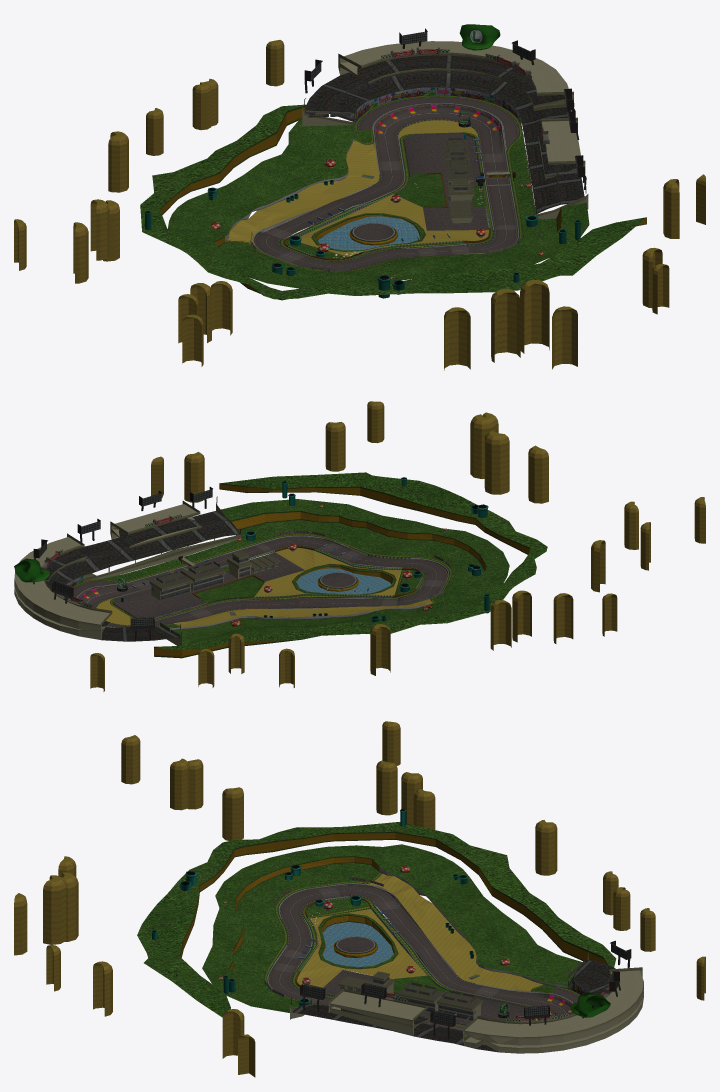
File: mk_luigi_circuit.glb
The picture shows the model from 3 angles, top to bottom: view 1: azimuth 30°, elevation 25°; view 2: azimuth 150°, elevation 25°; view 3: azimuth 270°, elevation 25°; orthographic projection. The views are drawn at different scales.
Parts seen in each view (by area): view 1: a_kusa_soto_2, yama_m_21, a_MainRoad_m_7, a_bc_kankyakuseat_m_12, tatemono_m_6, a_SAND_m_5, a_bc_enseki_m_1, block3_m_4, a_kusa_waki_m_3, popkanban_m_10, kinoko_m_14, lake_m_20 (+1 smaller); view 2: a_kusa_soto_2, yama_m_21, tatemono_m_6, a_MainRoad_m_7, a_bc_kankyakuseat_m_12, block3_m_4, a_SAND_m_5, a_bc_enseki_m_1, a_kusa_waki_m_3, kinoko_m_14, lake_m_20, lugcap_m_18 (+1 smaller); view 3: a_kusa_soto_2, yama_m_21, tatemono_m_6, a_MainRoad_m_7, block3_m_4, a_SAND_m_5, a_bc_kankyakuseat_m_12, a_bc_enseki_m_1, a_kusa_waki_m_3, lake_m_20, kinoko_m_14, lugcap_m_18.
Part boxes in pixels (<box>): a_kusa_soto_2: <box>140,104,646,299</box>; yama_m_21: <box>14,40,705,370</box>; a_MainRoad_m_7: <box>254,96,518,270</box>; a_bc_kankyakuseat_m_12: <box>304,55,584,216</box>; tatemono_m_6: <box>250,28,588,271</box>; a_SAND_m_5: <box>226,120,488,256</box>; a_bc_enseki_m_1: <box>225,103,518,270</box>; block3_m_4: <box>160,105,646,300</box>; a_kusa_waki_m_3: <box>225,95,522,271</box>; popkanban_m_10: <box>307,87,520,252</box>; kinoko_m_14: <box>144,133,580,298</box>; lake_m_20: <box>318,216,419,250</box>; a_kusa_soto_2: <box>97,472,547,650</box>; yama_m_21: <box>90,401,705,691</box>; tatemono_m_6: <box>14,487,444,645</box>; a_MainRoad_m_7: <box>70,536,447,627</box>; a_bc_kankyakuseat_m_12: <box>45,510,279,641</box>; block3_m_4: <box>154,483,529,658</box>; a_SAND_m_5: <box>96,547,433,629</box>; a_bc_enseki_m_1: <box>77,535,448,630</box>; a_kusa_waki_m_3: <box>73,533,452,629</box>; kinoko_m_14: <box>121,477,489,626</box>; lake_m_20: <box>296,568,391,594</box>; lugcap_m_18: <box>14,558,49,582</box>; a_kusa_soto_2: <box>137,822,616,1017</box>; yama_m_21: <box>14,721,705,1077</box>; tatemono_m_6: <box>264,881,643,1053</box>; a_MainRoad_m_7: <box>268,884,578,1030</box>; block3_m_4: <box>180,832,607,993</box>; a_SAND_m_5: <box>297,873,551,1020</box>; a_bc_kankyakuseat_m_12: <box>291,959,615,1052</box>; a_bc_enseki_m_1: <box>267,866,572,1026</box>; a_kusa_waki_m_3: <box>264,872,580,1026</box>; lake_m_20: <box>322,922,393,966</box>; kinoko_m_14: <box>151,809,509,1006</box>; lugcap_m_18: <box>570,992,610,1017</box>.
Bounding box in the file's own units: 773 × 110 × 823.
145 materials, 145 textured.
